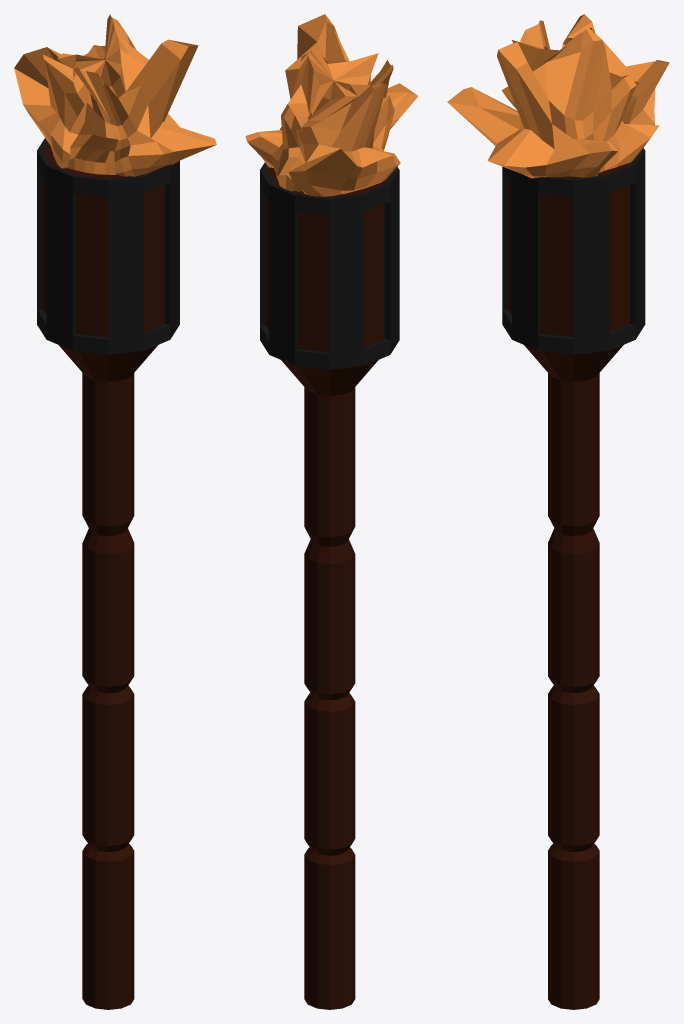
3 renders of one model, left to right at view 1: azimuth 30°, elevation 25°; view 2: azimuth 150°, elevation 25°; view 3: azimuth 270°, elevation 25°, orthographic. The views are drawn at different scales.
Parts seen in each view (by area): view 1: Cylinder_Torch_wood_0, Sphere_Tourch_fire_0, Cylinder_Torch_metal_0; view 2: Cylinder_Torch_wood_0, Sphere_Tourch_fire_0, Cylinder_Torch_metal_0; view 3: Cylinder_Torch_wood_0, Sphere_Tourch_fire_0, Cylinder_Torch_metal_0.
Part boxes in pixels (bbox=[...]): Cylinder_Torch_wood_0: bbox=[43, 143, 164, 1009]; Sphere_Tourch_fire_0: bbox=[14, 14, 216, 176]; Cylinder_Torch_metal_0: bbox=[37, 138, 179, 354]; Cylinder_Torch_wood_0: bbox=[266, 167, 390, 1009]; Sphere_Tourch_fire_0: bbox=[245, 14, 418, 196]; Cylinder_Torch_metal_0: bbox=[260, 162, 399, 369]; Cylinder_Torch_wood_0: bbox=[509, 162, 631, 1009]; Sphere_Tourch_fire_0: bbox=[447, 14, 669, 178]; Cylinder_Torch_metal_0: bbox=[502, 148, 645, 354].
Bounding box in the file's own units: 0.8913 × 6.22 × 1.29.
